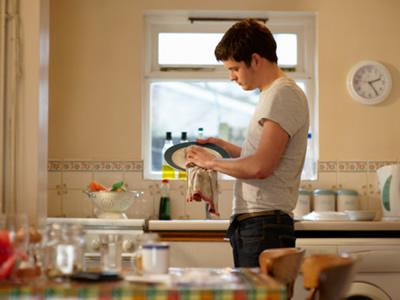person: (186, 21, 310, 270)
